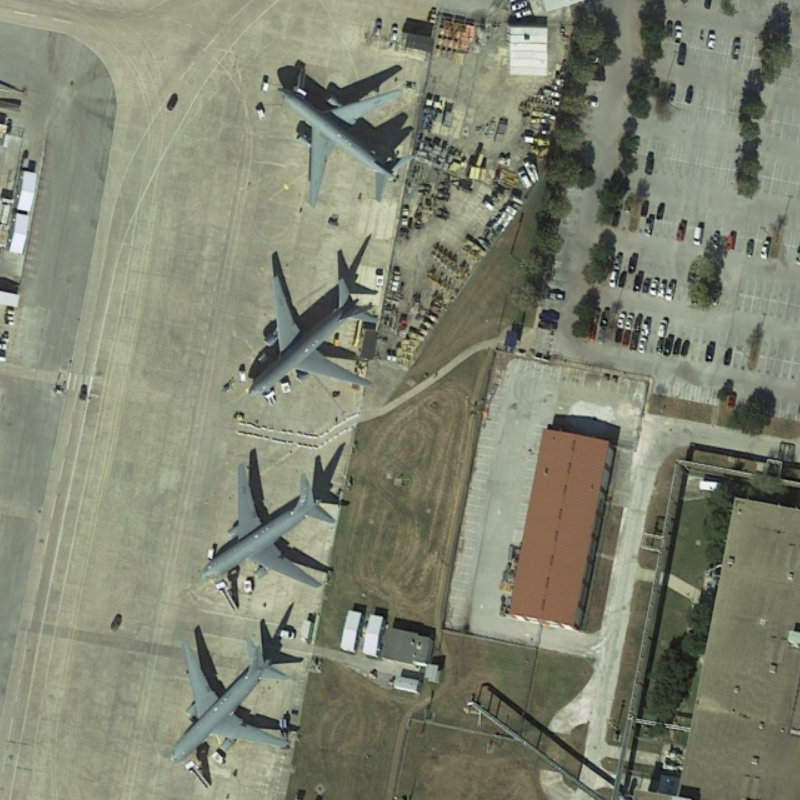A18: (194, 439, 349, 595), (238, 245, 386, 403), (268, 66, 426, 207), (161, 629, 312, 773)
